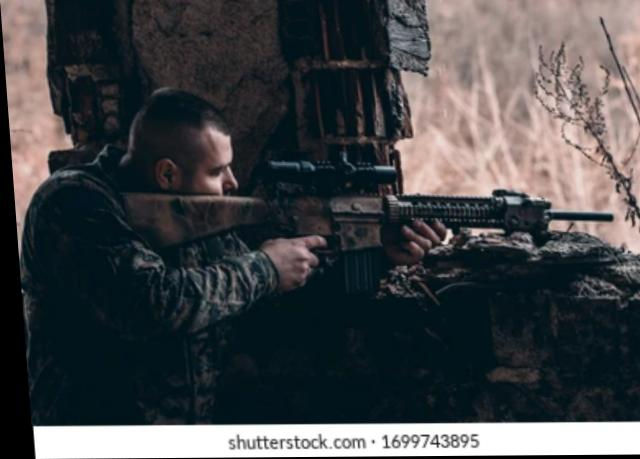other: (25, 113, 325, 396)
